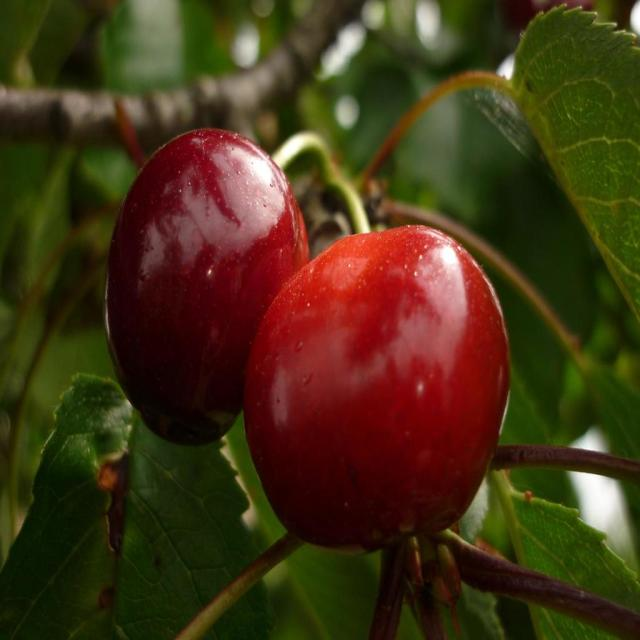Healty Apple: (242, 224, 512, 587)
